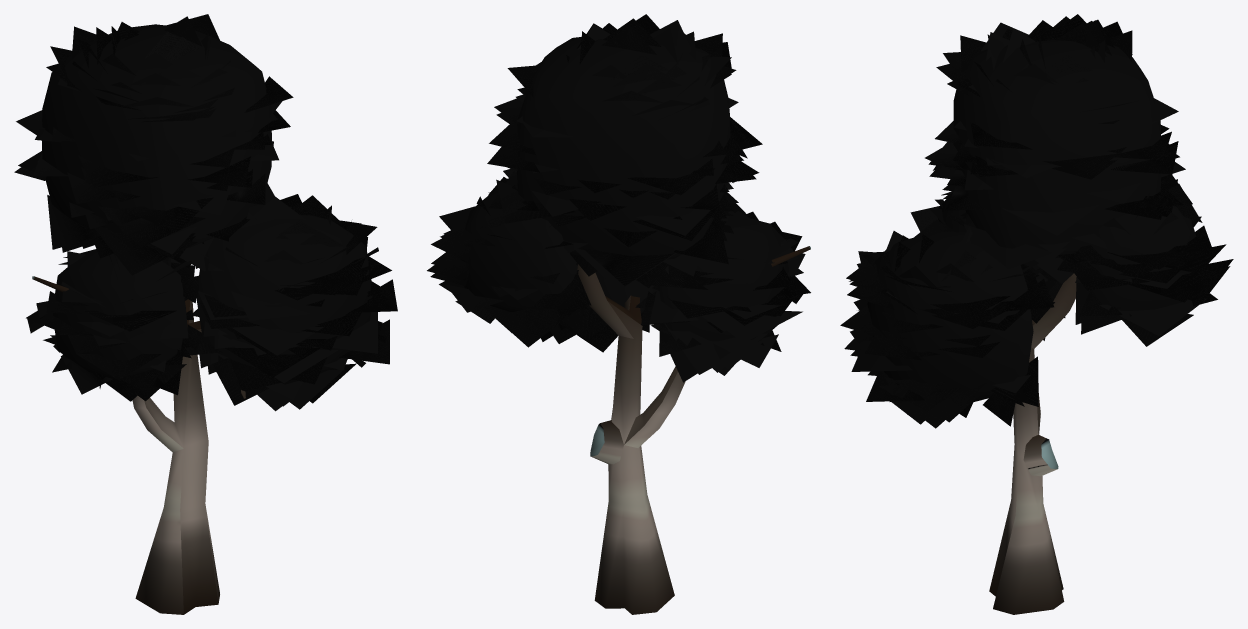
The model's file is Tree_5F.fbx.
The picture shows the model from 3 angles, left to right: view 1: azimuth 30°, elevation 25°; view 2: azimuth 150°, elevation 25°; view 3: azimuth 270°, elevation 25°; orthographic projection. The views are drawn at different scales.
Visible parts, largest first — view 1: Tree_5F; view 2: Tree_5F; view 3: Tree_5F.
Part boxes in pixels (bbox=[...]): Tree_5F: bbox=[14, 14, 397, 614]; Tree_5F: bbox=[427, 14, 810, 614]; Tree_5F: bbox=[840, 14, 1233, 614].
Bounding box in the file's own units: 5.7 × 9.53 × 6.07.
